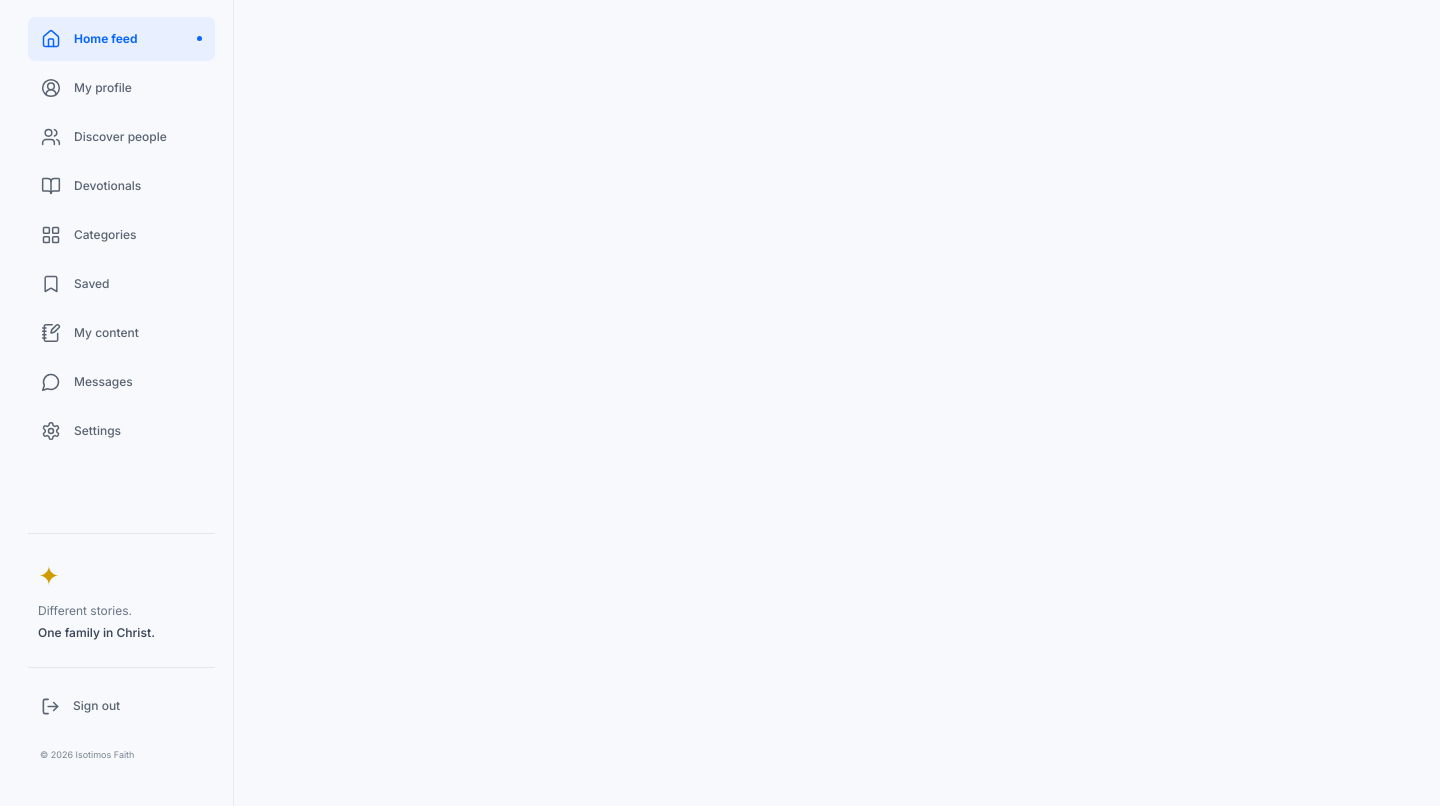
Test case: real auth UI and provider with mocked Supabase transport › logs out through Supabase and removes protected content
This screenshot has width=1440, height=806.
(page scrolled)
Step 1. Click the button "Sign out" → [122, 706], box [28,684,215,728]
(page scrolled)
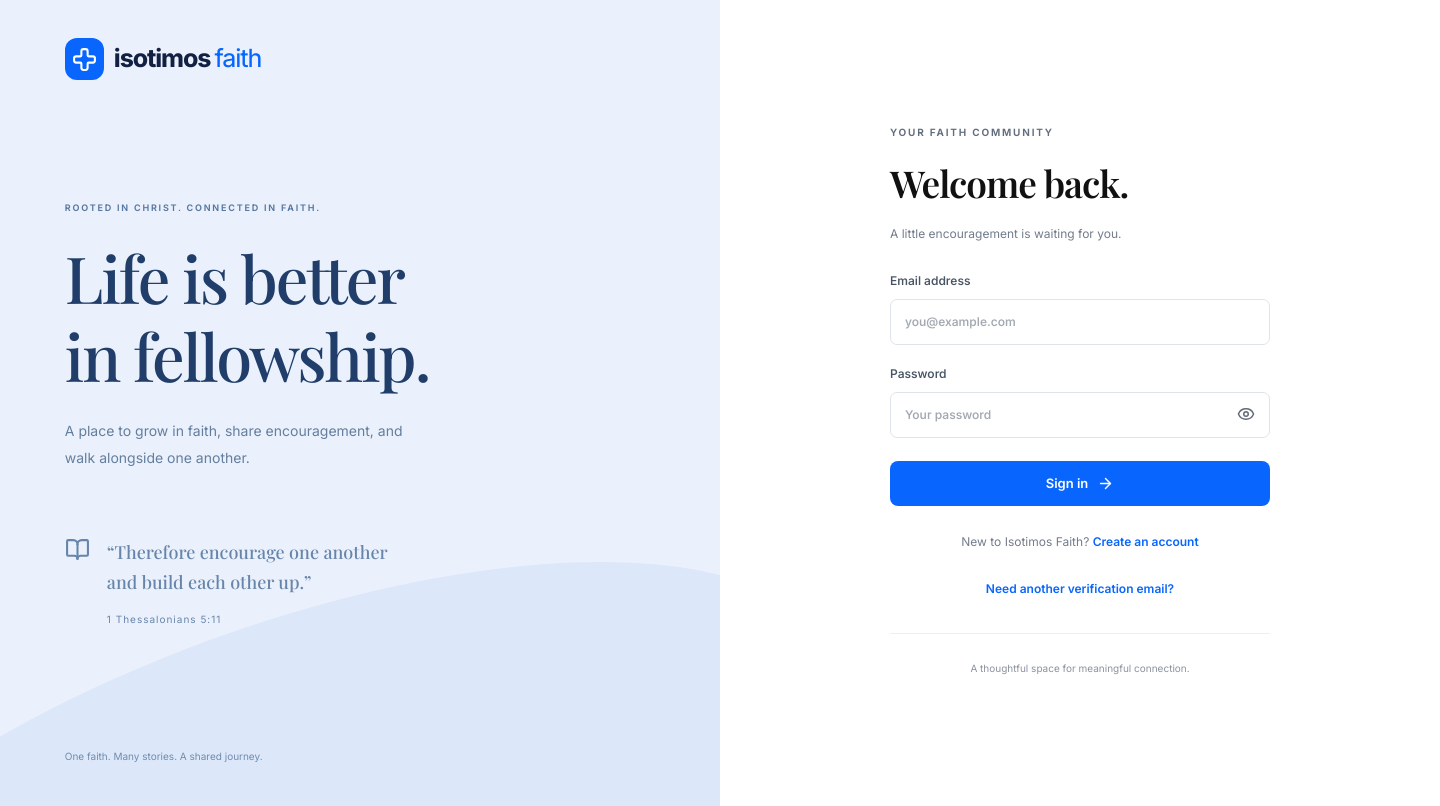
Expected: the heading "Welcome back." is shown, [890,158,1128,207]
